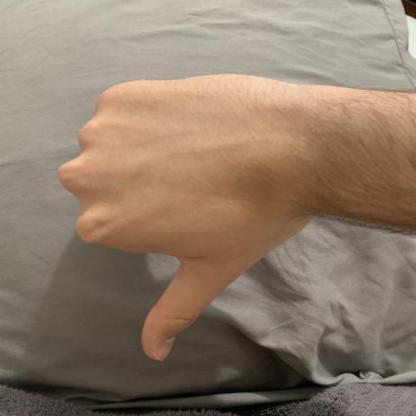Thumbs-Down: (52, 69, 382, 362)
